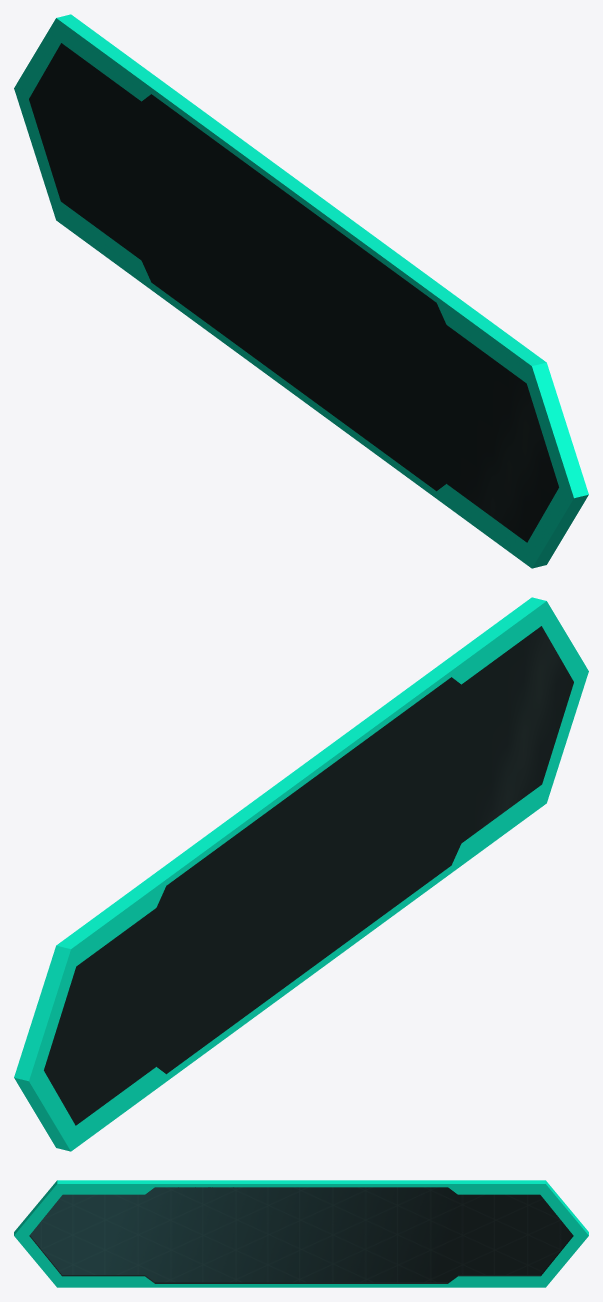
Rendered from UI_Game_Info.glb.
The picture shows the model from 3 angles, top to bottom: view 1: azimuth 30°, elevation 25°; view 2: azimuth 150°, elevation 25°; view 3: azimuth 270°, elevation 25°; orthographic projection. The views are drawn at different scales.
Visible parts, largest first — view 1: UI_GameInfo; view 2: UI_GameInfo; view 3: UI_GameInfo.
Part boxes in pixels (x1,y1,x2,y2): UI_GameInfo: (14, 14, 588, 568); UI_GameInfo: (14, 597, 588, 1151); UI_GameInfo: (14, 1180, 588, 1287).
Size of the model in its own units: 0.0154 by 0.2 by 1.
Materials: 2 (1 with a texture image).
